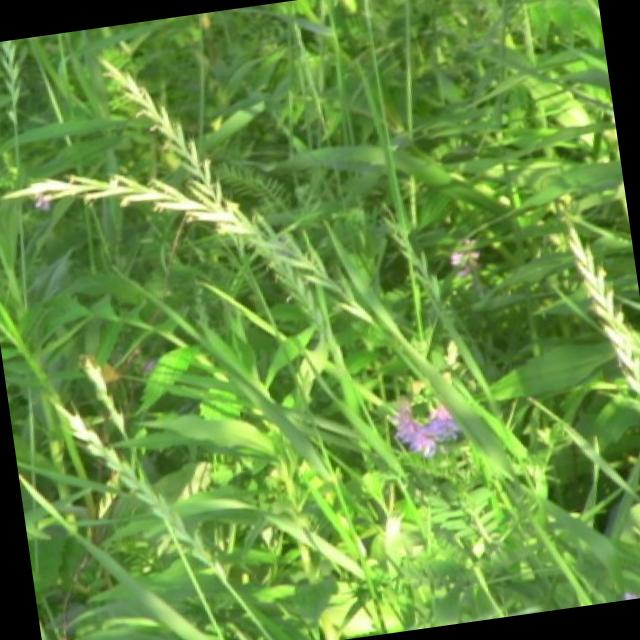Lolium: (100, 34, 326, 348), (4, 138, 354, 336), (62, 386, 222, 585), (552, 197, 640, 404)
